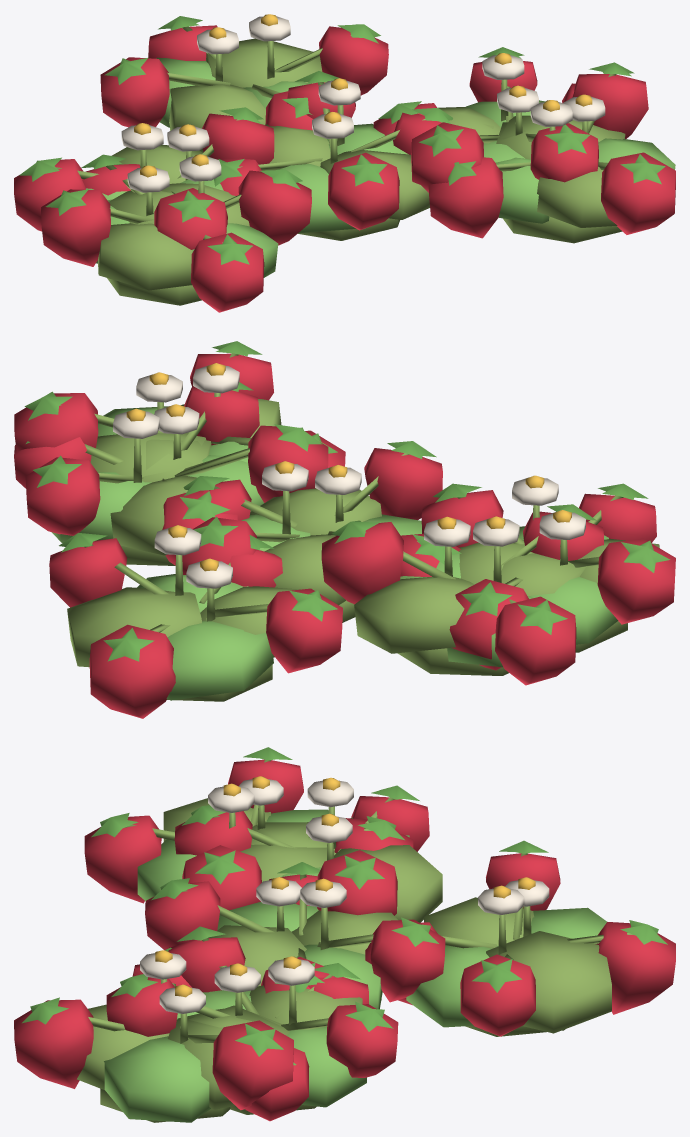
Rendered from strawberry_patch_v3.glb.
3 renders of one model, top to bottom at view 1: azimuth 30°, elevation 25°; view 2: azimuth 150°, elevation 25°; view 3: azimuth 270°, elevation 25°, orthographic. The views are drawn at different scales.
Parts seen in each view (by area): view 1: strawberry_3, strawberry_2, strawberry_1; view 2: strawberry_3, strawberry_2, strawberry_1; view 3: strawberry_3, strawberry_2, strawberry_1.
Part boxes in pixels (x1=…): strawberry_3: x1=41, y1=14, x2=675, y2=312; strawberry_2: x1=14, y1=47, x2=625, y2=249; strawberry_1: x1=214, y1=71, x2=452, y2=240; strawberry_3: x1=14, y1=341, x2=675, y2=718; strawberry_2: x1=14, y1=382, x2=603, y2=685; strawberry_1: x1=182, y1=441, x2=461, y2=622; strawberry_3: x1=14, y1=747, x2=675, y2=1122; strawberry_2: x1=106, y1=777, x2=442, y2=1121; strawberry_1: x1=145, y1=862, x2=445, y2=1009.
Size of the model in its own units: 1.6 by 0.34 by 1.43.
